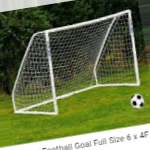goals: (10, 8, 145, 117)
